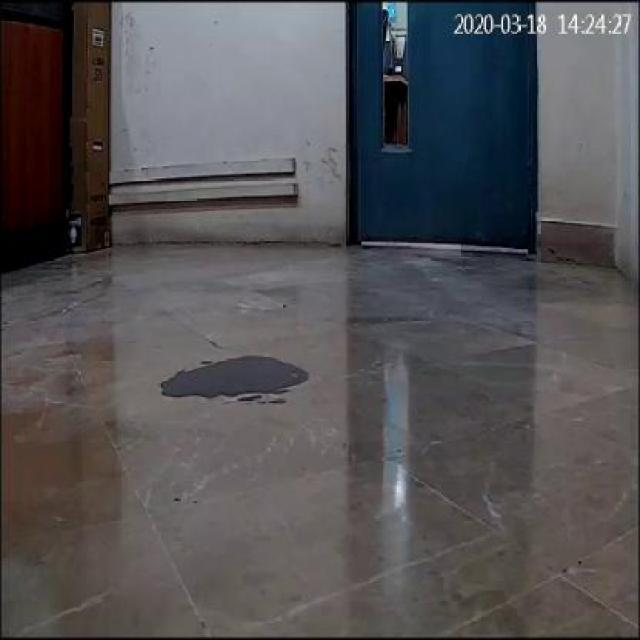spill: (156, 350, 304, 407)
